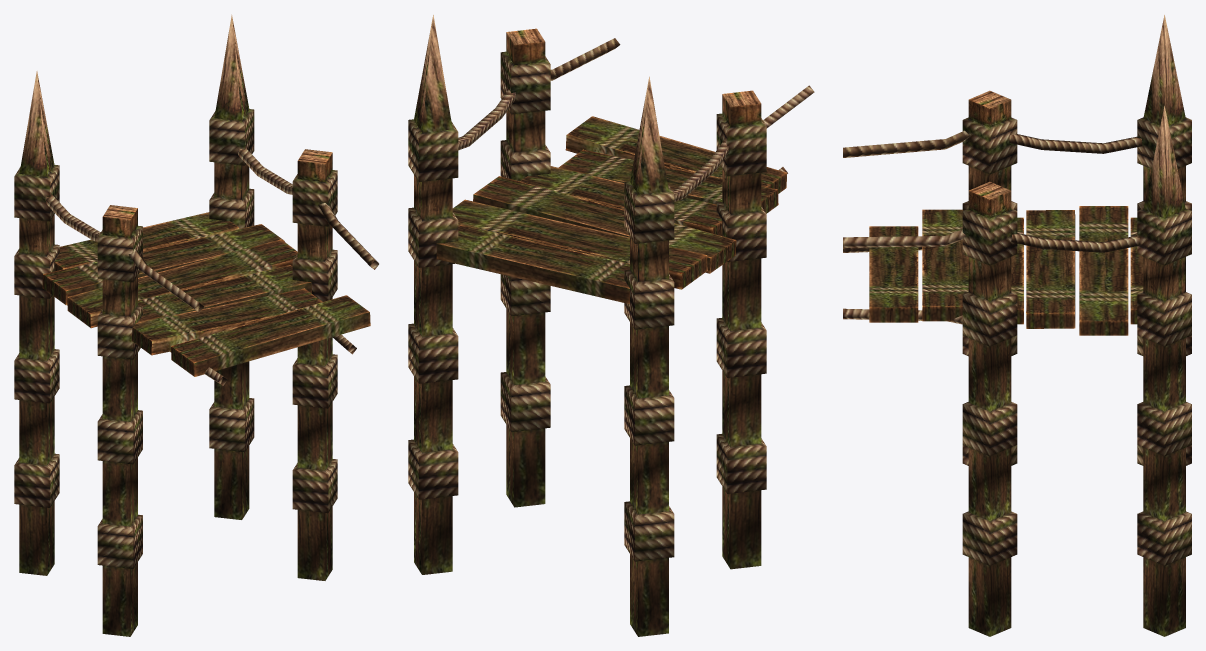
File: StoneRoad08.FBX
The picture shows the model from 3 angles, left to right: view 1: azimuth 30°, elevation 25°; view 2: azimuth 150°, elevation 25°; view 3: azimuth 270°, elevation 25°; orthographic projection. The views are drawn at different scales.
Parts seen in each view (by area): view 1: StoneRoad08; view 2: StoneRoad08; view 3: StoneRoad08.
Boxes of the visible parts, x1,y1,x2,y2 form: StoneRoad08: (14, 14, 378, 636); StoneRoad08: (408, 15, 814, 636); StoneRoad08: (843, 15, 1191, 636).
Size of the model in its own units: 310 by 626 by 372.
